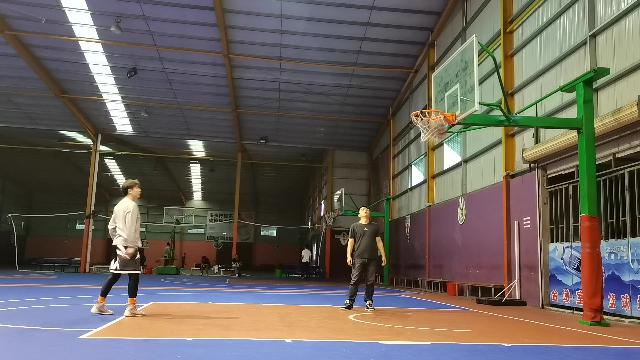basket: (412, 108, 446, 142), (324, 209, 336, 224)
goal: (430, 120, 446, 136)
